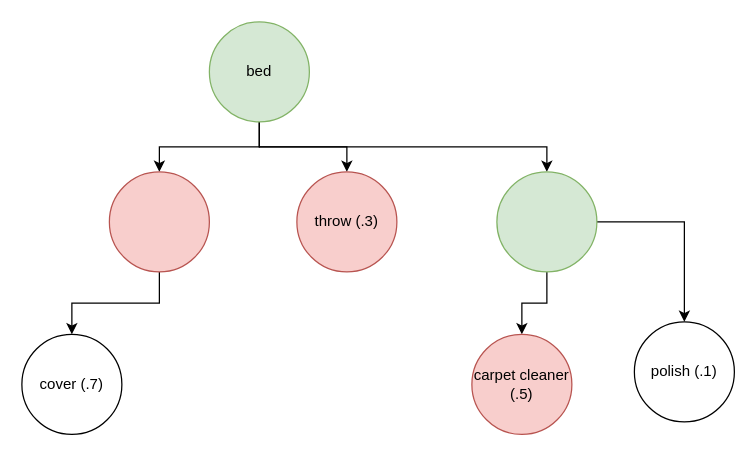
The diagram is 756 pixels wide and 456 high, and some of its shapes have lost their labels. The centre of each missing label's shape, as x and y in pixels:
"carpet (.2)" goes at point (546, 221).
"matress (.5)" goes at point (158, 221).
